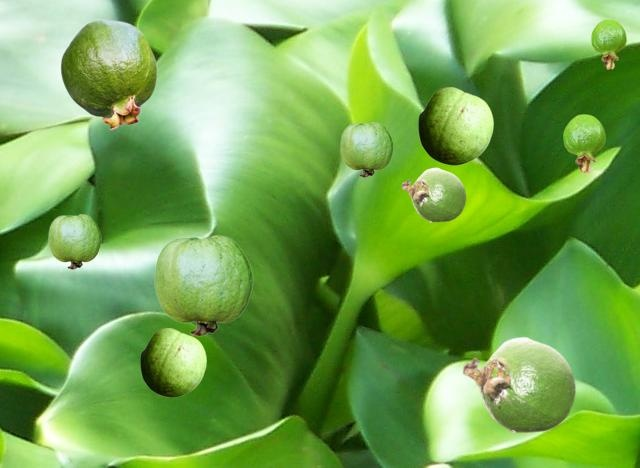guava: (462, 336, 575, 432), (60, 19, 156, 129), (154, 235, 252, 335), (418, 87, 492, 164), (140, 328, 205, 396), (401, 167, 465, 221), (48, 214, 100, 268), (340, 122, 392, 176), (563, 114, 604, 172), (591, 19, 625, 68)
